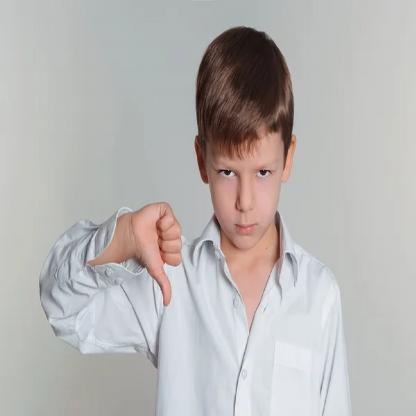thumb_down: (133, 195, 185, 309)
